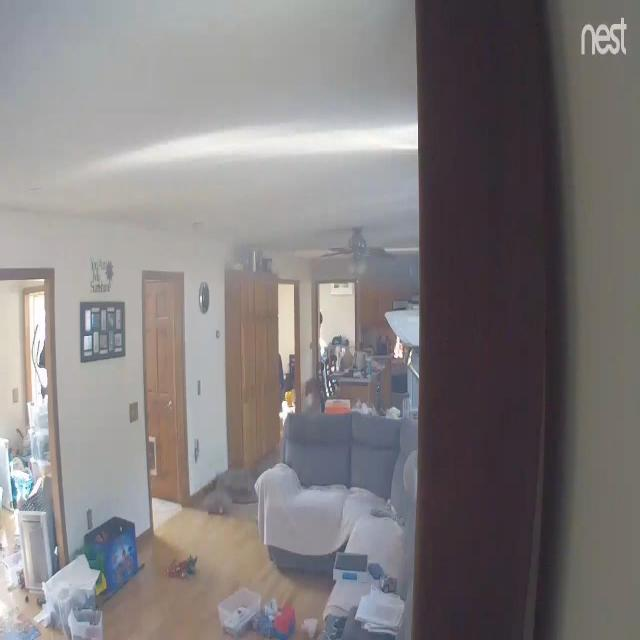fire: (394, 335, 403, 359)
